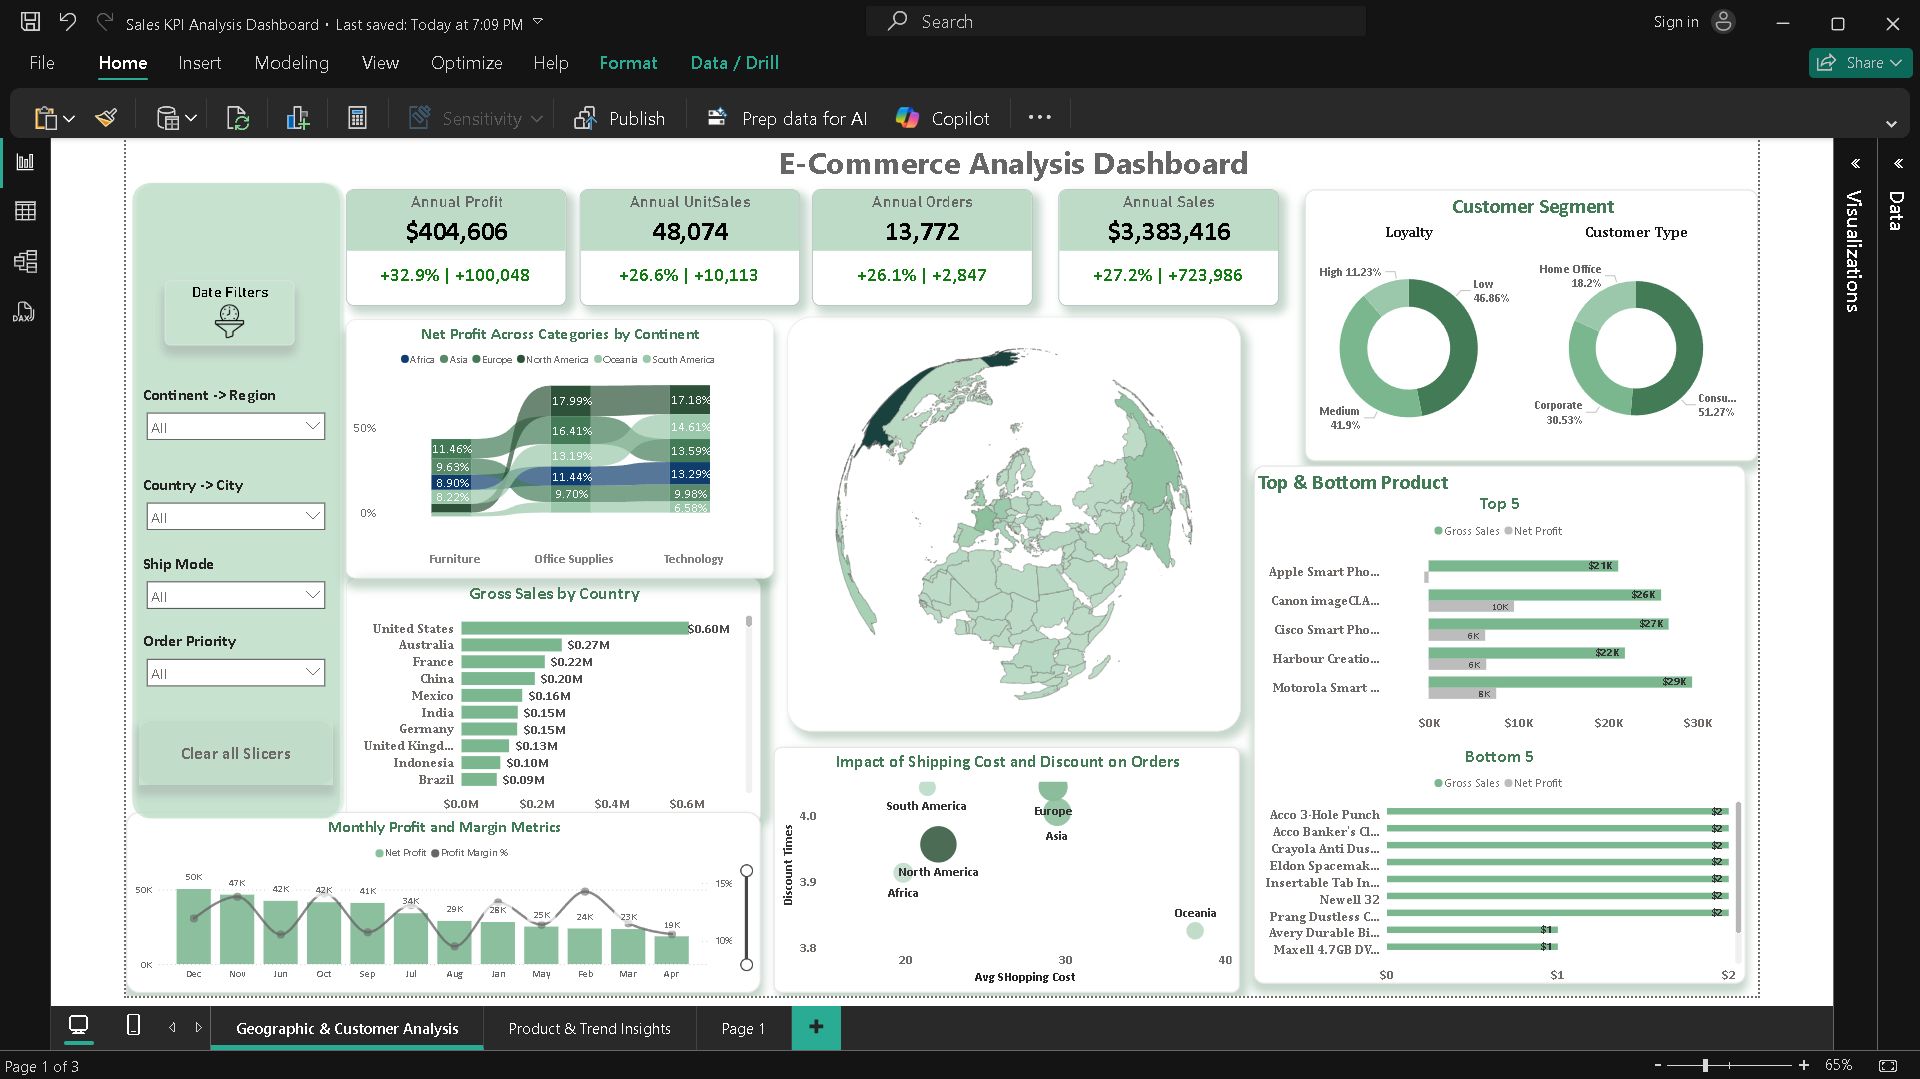

The dashboard page shown, as its layout file describes it:
{"tool":"powerbi","page":{"name":"Geographic  & Customer Analysis","canvas":[2016,1060],"ordinal":0},"visuals":[{"type":"shape","title":"Filter Pane 1","box":[0,48,272,800],"z":0,"group":"g1"},{"type":"shape","title":"Customer Segment ","box":[1456,64,560,336],"z":0},{"type":"donutChart","title":"Loyalty ","fields":{"Category":["Super Store(Fact).Loyalty Segment"],"Y":["Sales Measure.Overall Order"]},"box":[1440,105.6,288,288],"z":1000},{"type":"slicer","title":"Order Priority","fields":{"Values":["Super Store(Fact).Order Priority"]},"box":[16,608,240,96],"z":1000,"group":"g1"},{"type":"donutChart","title":"Customer Type","fields":{"Category":["Super Store(Fact).Segment"],"Y":["Sales Measure.Overall Order"]},"box":[1728,105.6,272,288],"z":2000},{"type":"slicer","title":"Continent -> Region","fields":{"Values":["Super Store(Fact).Continent","Super Store(Fact).Region"]},"box":[16,304,240,96],"z":2000,"group":"g1"},{"type":"slicer","title":"Country -> City","fields":{"Values":["Super Store(Fact).Country","Super Store(Fact).City"]},"box":[16,416,240,96],"z":3000,"group":"g1"},{"type":"barChart","fields":{"Category":["Super Store(Fact).Country"],"Y":["Sales Measure.Gross Sales"]},"box":[272,544,512,304],"z":3000},{"type":"slicer","title":"Ship Mode","fields":{"Values":["Super Store(Fact).Ship Mode"]},"box":[16,512,240,96],"z":4000,"group":"g1"},{"type":"lineClusteredColumnComboChart","title":"Monthly Profit and Margin Metrics","fields":{"Y":["Sales Measure.Net Profit"],"Y2":["Sales Measure.Net Profit %"],"Category":["Date(dim).MonthName"]},"box":[0,832,784,224],"z":4000},{"type":"group","id":"g1","title":"Group 1","box":[0,48,272,800],"z":5000},{"type":"actionButton","box":[16,720,240,80],"z":5000,"group":"g1"},{"type":"image","title":"Date Filters","box":[48,176,160,80],"z":6000,"group":"g1"},{"type":"ribbonChart","title":"Net Profit  Across Categories by Continent ","fields":{"Y":["Sales Measure.Gross Margin %"],"Series":["Super Store(Fact).Continent"],"Category":["Super Store(Fact).Category"]},"box":[272,224,528,320],"z":8000},{"type":"shape","title":"Top & Bottom Product","box":[1392,404.8,608,640],"z":9000},{"type":"clusteredBarChart","title":"Top 5","fields":{"Y":["Sales Measure.Gross Sales","Sales Measure.Net Profit"],"Category":["Super Store(Fact).Product Name"]},"box":[1392,436.8,608,304],"z":10000},{"type":"shapeMap","fields":{"Category":["Super Store(Fact).Country"],"Value":["Sales Measure.Gross Sales"]},"box":[816,220.8,560,512],"z":11000},{"type":"scatterChart","title":"Impact of Shipping Cost and Discount on Orders","fields":{"Category":["Super Store(Fact).Continent"],"X":["Sales Measure.Avg SHopping Cost"],"Y":["Avg(Super Store(Fact).Delivery Days)"],"Size":["Sales Measure.Overall Order"]},"box":[800,752,576,304],"z":12000},{"type":"clusteredBarChart","title":"Bottom 5","fields":{"Y":["Sales Measure.Gross Sales","Sales Measure.Net Profit"],"Category":["Super Store(Fact).Product Name"]},"box":[1392,748.8,608,304],"z":13000},{"type":"card","fields":{"Values":["KPIs.Unit Sold KPI"]},"box":[560,64,272,144],"z":14000},{"type":"card","fields":{"Values":["KPIs.Gross KPI"]},"box":[1152,64,272,144],"z":15000},{"type":"card","fields":{"Values":["KPIs.Dynamic KPI"]},"box":[272,64,272,144],"z":16000},{"type":"card","fields":{"Values":["KPIs.Overall Order KPI"]},"box":[848,64,272,144],"z":17000},{"type":"textbox","box":[512,0,1168,64],"z":18000}]}

Visuals, with their boxes on the page's 2016x1060 design canvas (x1, y1, x2, y2). These are canvas units, not pixel positions in the 1920x1079 screenshot, which may show the page scaled, cropped or inside an application window:
"Filter Pane 1" shape: select_region(0, 48, 272, 848)
"Customer Segment " shape: select_region(1456, 64, 2016, 400)
"Loyalty " donutChart: select_region(1440, 106, 1728, 394)
"Order Priority" slicer: select_region(16, 608, 256, 704)
"Customer Type" donutChart: select_region(1728, 106, 2000, 394)
"Continent -> Region" slicer: select_region(16, 304, 256, 400)
"Country -> City" slicer: select_region(16, 416, 256, 512)
barChart - Super Store(Fact).Country x Sales Measure.Gross Sales: select_region(272, 544, 784, 848)
"Ship Mode" slicer: select_region(16, 512, 256, 608)
"Monthly Profit and Margin Metrics" lineClusteredColumnComboChart: select_region(0, 832, 784, 1056)
"Group 1" group: select_region(0, 48, 272, 848)
actionButton: select_region(16, 720, 256, 800)
"Date Filters" image: select_region(48, 176, 208, 256)
"Net Profit  Across Categories by Continent " ribbonChart: select_region(272, 224, 800, 544)
"Top & Bottom Product" shape: select_region(1392, 405, 2000, 1045)
"Top 5" clusteredBarChart: select_region(1392, 437, 2000, 741)
shapeMap - Super Store(Fact).Country x Sales Measure.Gross Sales: select_region(816, 221, 1376, 733)
"Impact of Shipping Cost and Discount on Orders" scatterChart: select_region(800, 752, 1376, 1056)
"Bottom 5" clusteredBarChart: select_region(1392, 749, 2000, 1053)
card - KPIs.Unit Sold KPI: select_region(560, 64, 832, 208)
card - KPIs.Gross KPI: select_region(1152, 64, 1424, 208)
card - KPIs.Dynamic KPI: select_region(272, 64, 544, 208)
card - KPIs.Overall Order KPI: select_region(848, 64, 1120, 208)
textbox: select_region(512, 0, 1680, 64)
